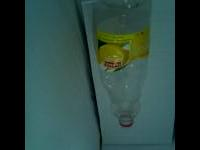bottle: (90, 1, 156, 127)
